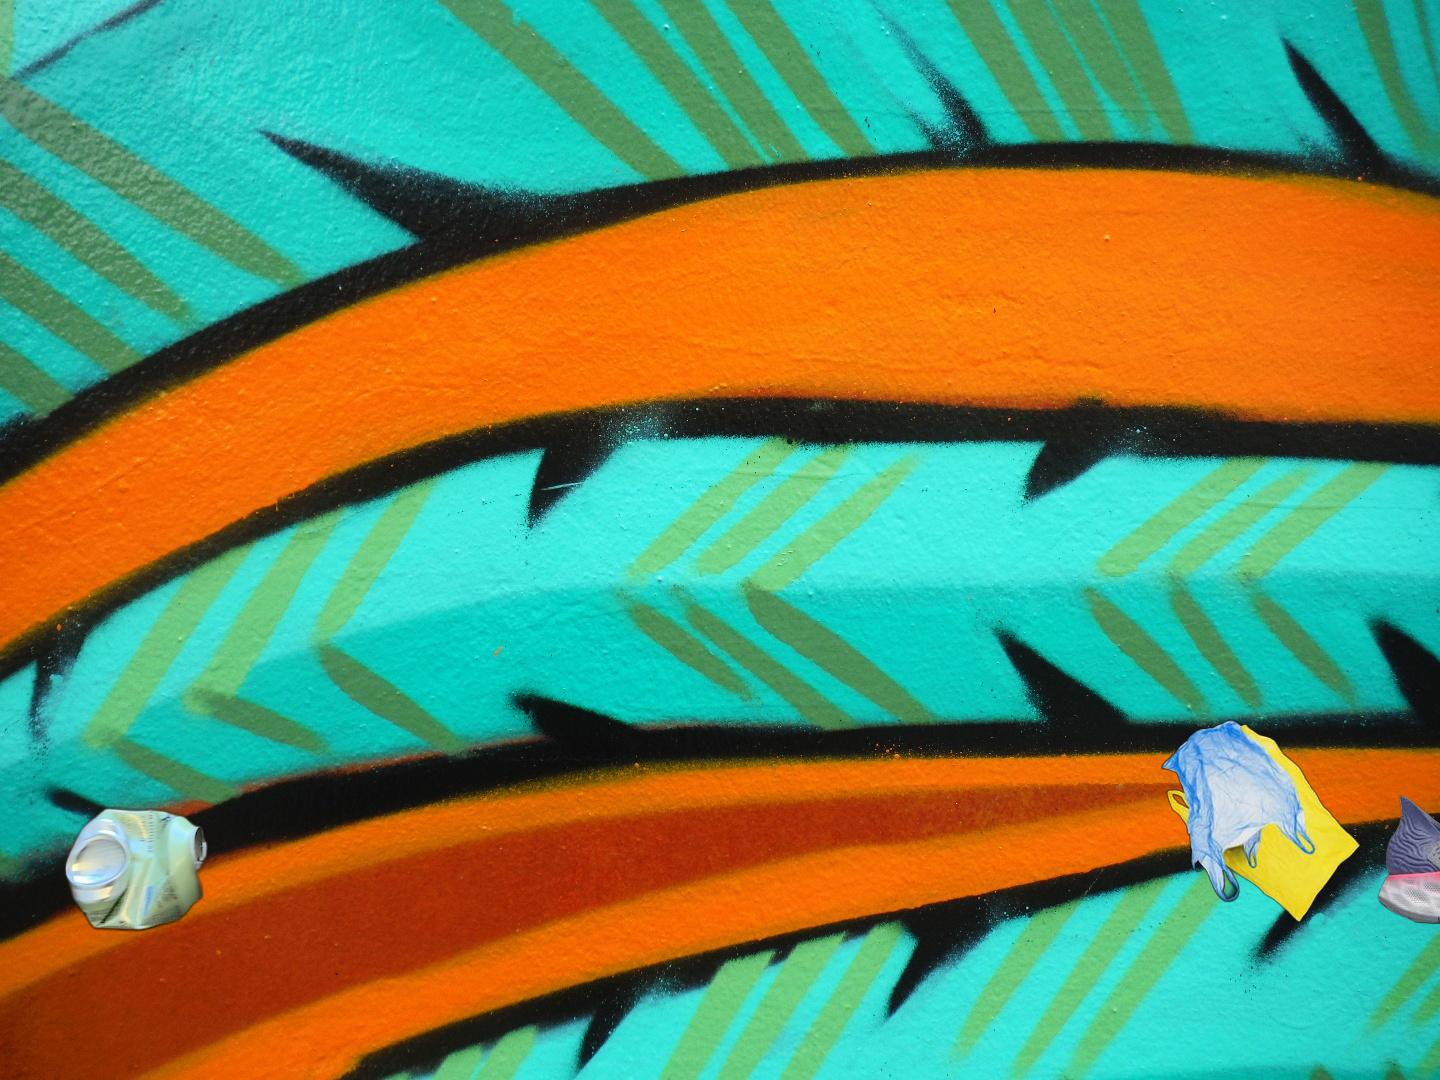metal-cans: (60, 802, 213, 936)
plastic-bag: (1159, 717, 1363, 925)
shoes: (1377, 793, 1440, 929)
